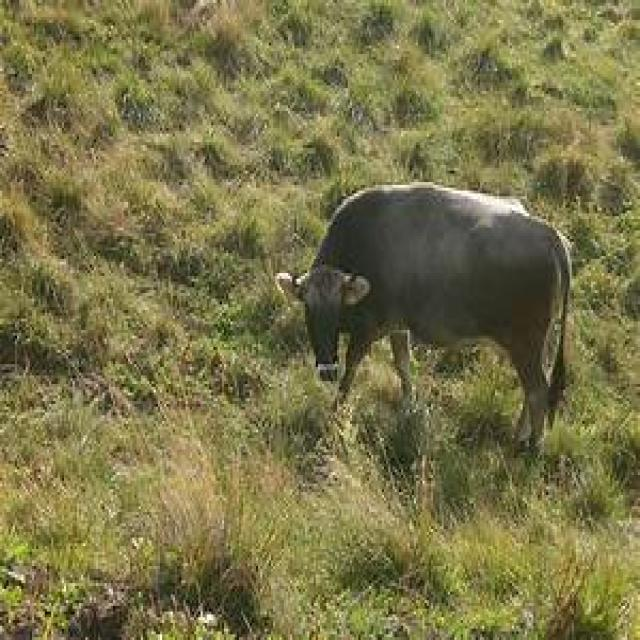cow: (275, 182, 570, 447)
